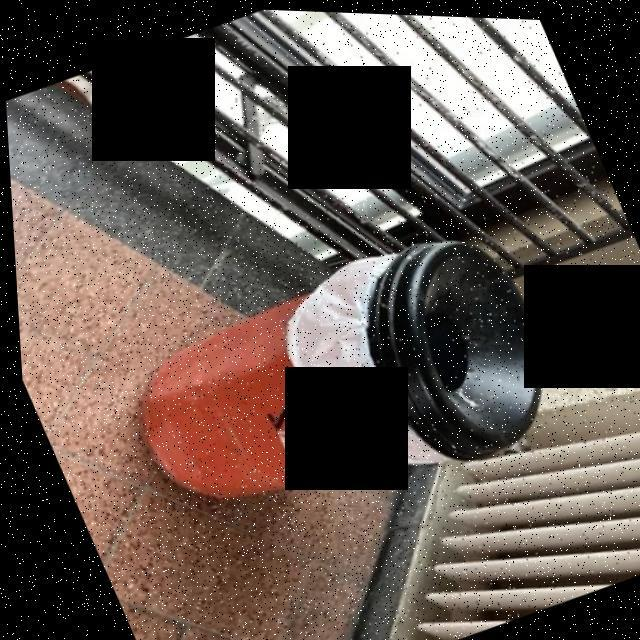bin: (62, 166, 638, 598)
